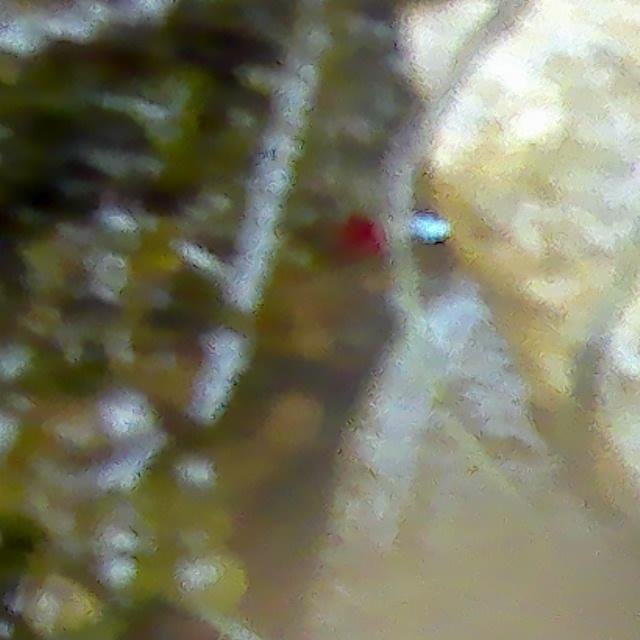SeaGrape: (168, 538, 257, 611), (98, 557, 158, 615), (99, 511, 155, 566)
